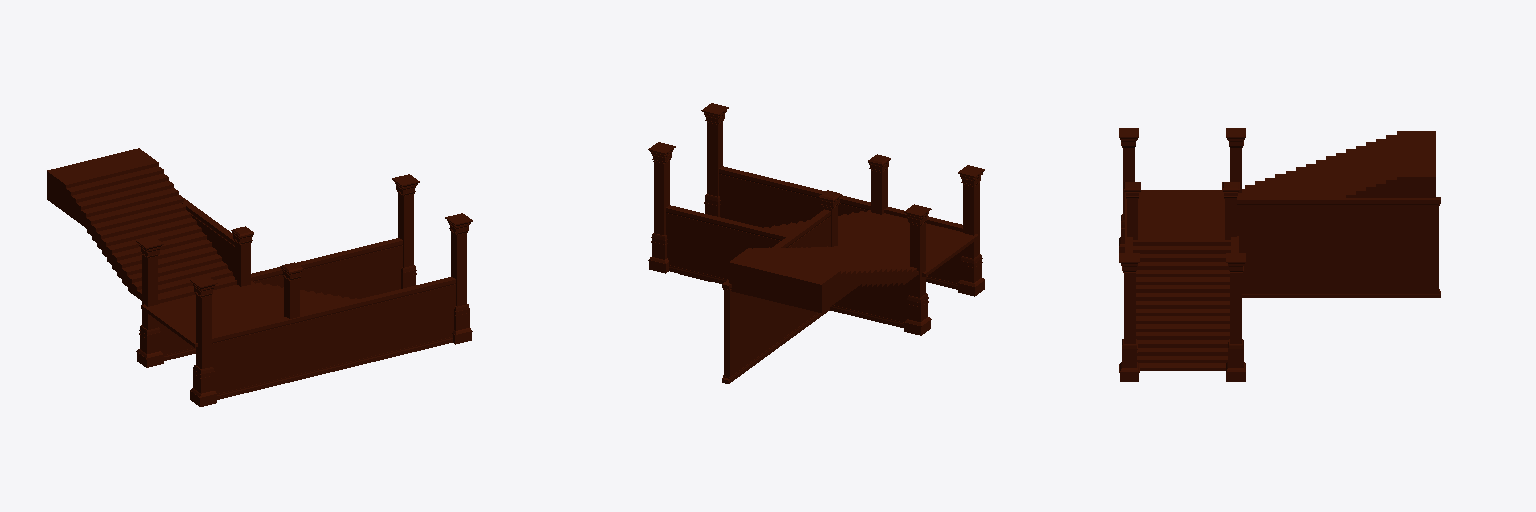
Rendered from stairs_3.obj.
3 renders of one model, left to right at view 1: azimuth 30°, elevation 25°; view 2: azimuth 150°, elevation 25°; view 3: azimuth 270°, elevation 25°, orthographic.
Visible parts, largest first — view 1: polySurface52; view 2: polySurface52; view 3: polySurface52.
Part boxes in pixels (left/top/right/bottom): polySurface52: left=47, top=148, right=472, bottom=406; polySurface52: left=648, top=103, right=984, bottom=383; polySurface52: left=1119, top=128, right=1440, bottom=381.
Bounding box in the file's own units: 8.02 × 3.42 × 8.2.